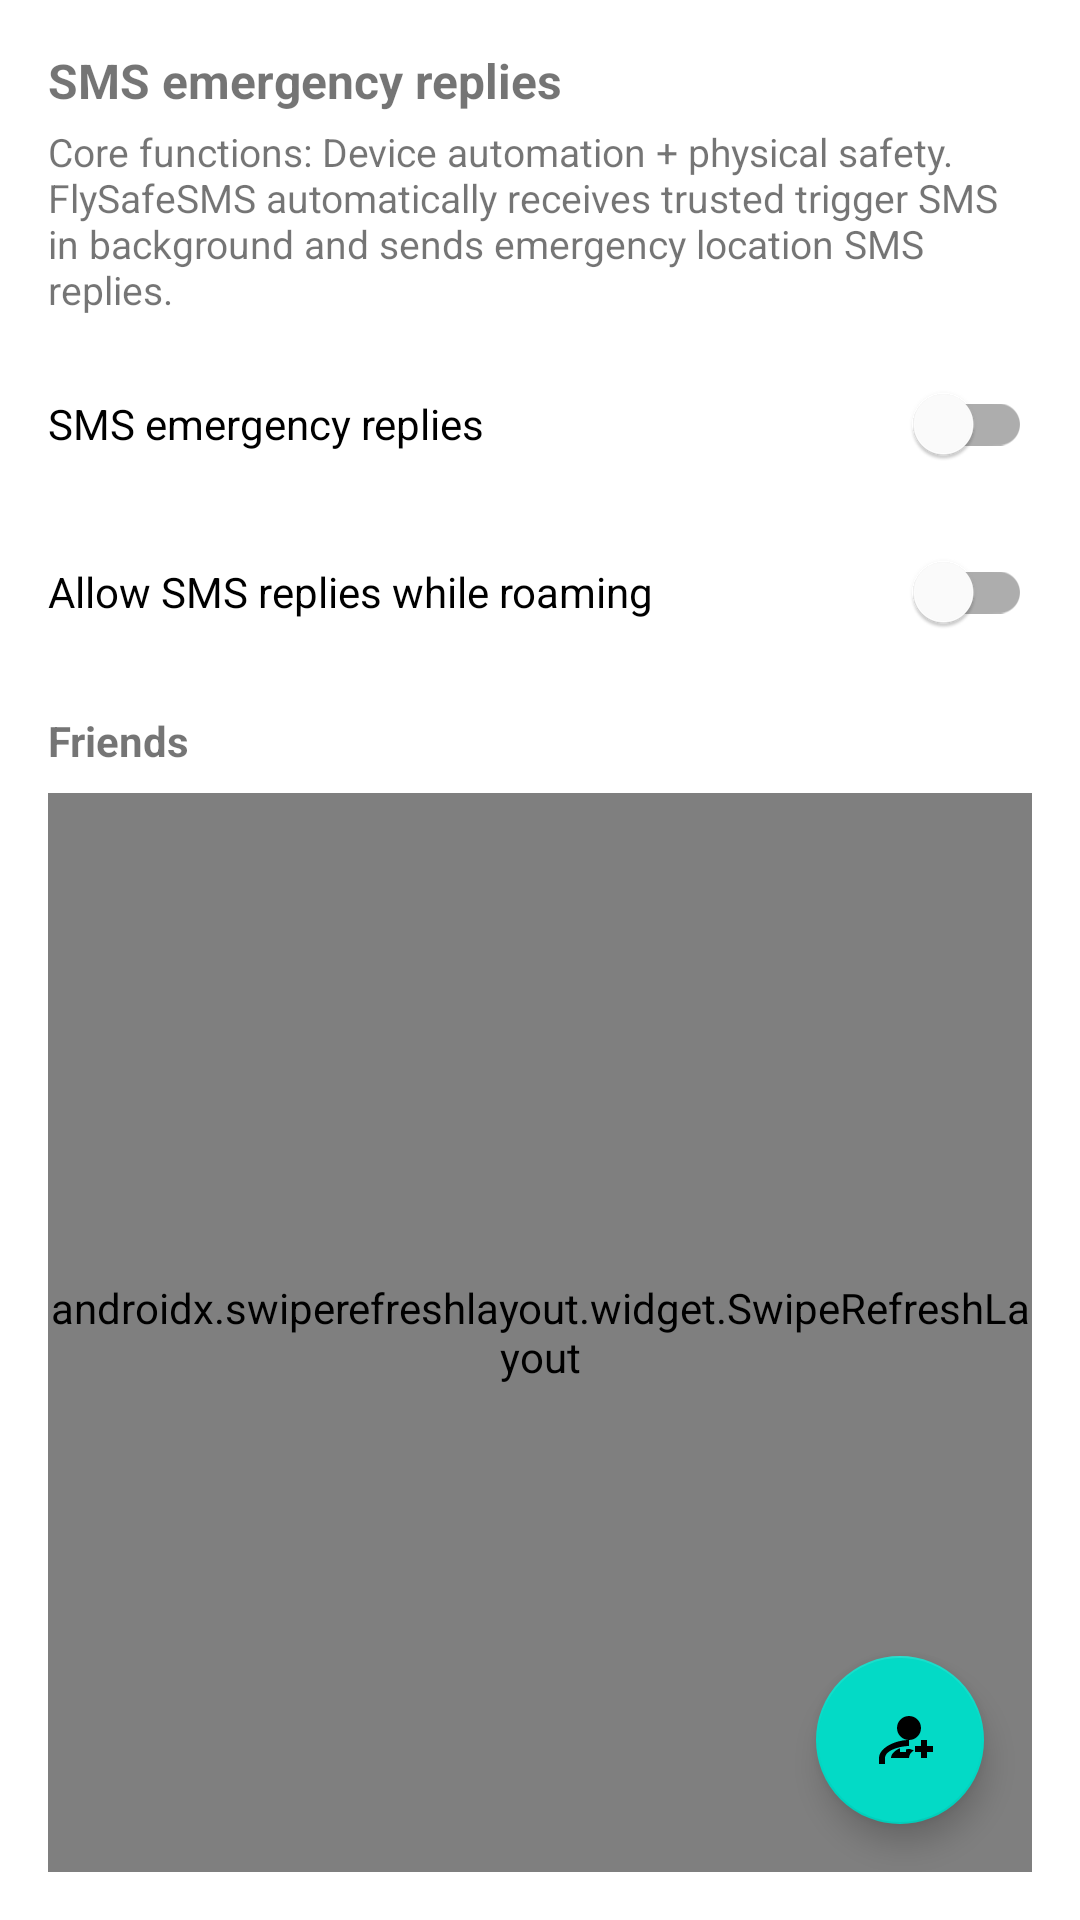

Where icons sit on this 1080px×1920px app screen, as [x1,y1,x2,y2]:
Add friend: [816,1656,984,1824]
